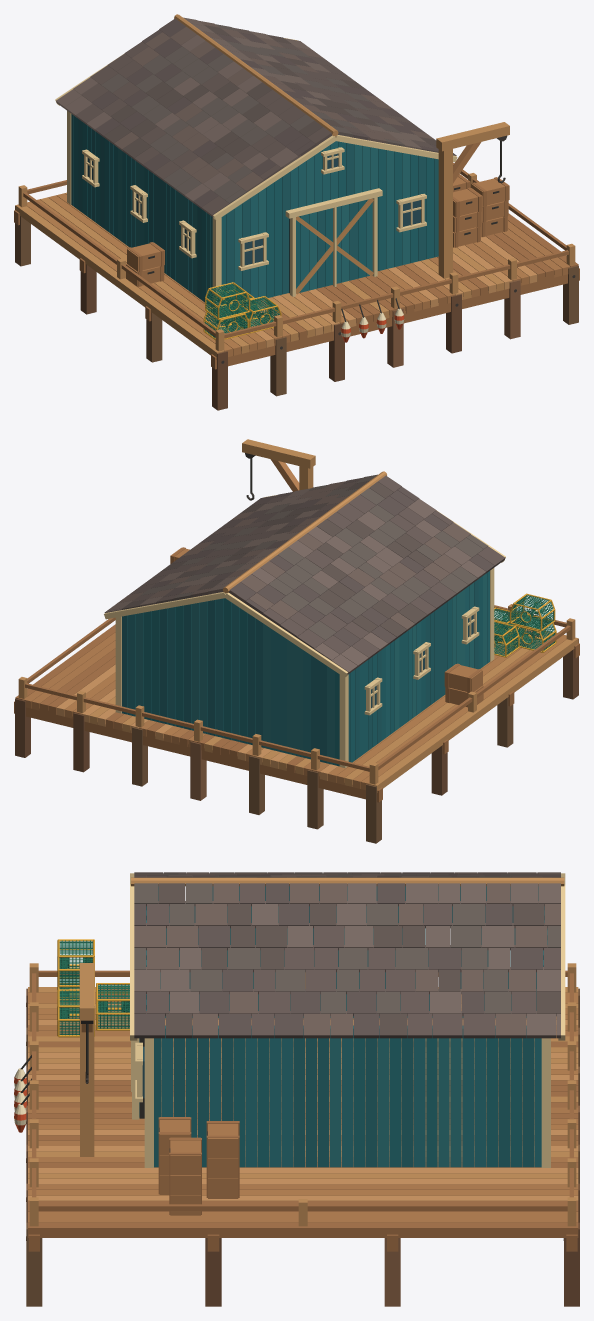
The model's file is crab_wharf_warehouse.glb.
The picture shows the model from 3 angles, top to bottom: view 1: azimuth 30°, elevation 25°; view 2: azimuth 150°, elevation 25°; view 3: azimuth 270°, elevation 25°; orthographic projection. The views are drawn at different scales.
Visible parts, largest first — view 1: Roof • staggered split shakes and ridge cap, Boathouse • siding and joinery, Pier • decking, stringers and rail, Working gear • pots and fish boxes, Cargo derrick • sheave, hook and marker floats; view 2: Roof • staggered split shakes and ridge cap, Boathouse • siding and joinery, Pier • decking, stringers and rail, Working gear • pots and fish boxes, Cargo derrick • sheave, hook and marker floats; view 3: Roof • staggered split shakes and ridge cap, Pier • decking, stringers and rail, Boathouse • siding and joinery, Working gear • pots and fish boxes, Cargo derrick • sheave, hook and marker floats.
Boxes of the visible parts, x1,y1,x2,y2 form: Roof • staggered split shakes and ridge cap: [55, 14, 457, 220]; Boathouse • siding and joinery: [67, 111, 438, 310]; Pier • decking, stringers and rail: [14, 162, 579, 410]; Working gear • pots and fish boxes: [126, 174, 509, 340]; Cargo derrick • sheave, hook and marker floats: [341, 122, 509, 342]; Roof • staggered split shakes and ridge cap: [104, 471, 505, 677]; Boathouse • siding and joinery: [115, 568, 494, 768]; Pier • decking, stringers and rail: [14, 604, 579, 843]; Working gear • pots and fish boxes: [170, 547, 556, 707]; Cargo derrick • sheave, hook and marker floats: [242, 439, 315, 500]; Roof • staggered split shakes and ridge cap: [130, 872, 565, 1040]; Pier • decking, stringers and rail: [26, 963, 579, 1306]; Boathouse • siding and joinery: [131, 886, 550, 1167]; Working gear • pots and fish boxes: [57, 939, 239, 1215]; Cargo derrick • sheave, hook and marker floats: [14, 963, 94, 1156].
Size of the model in its own units: 11.08 by 6.21 by 10.9.
